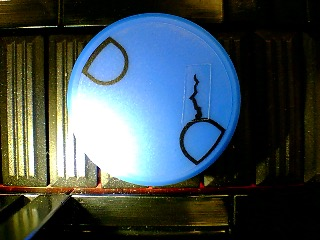CRACK: (67, 13, 242, 187)
